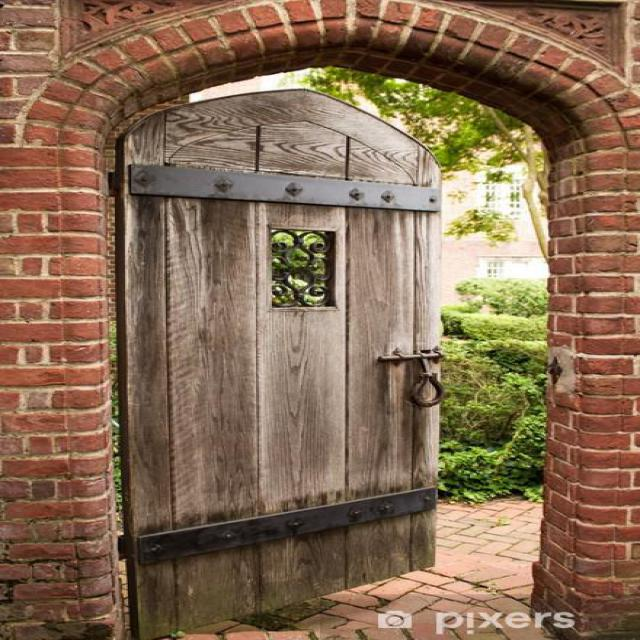semi-open: (56, 1, 638, 638)
